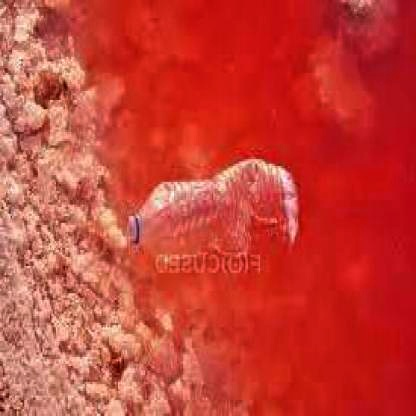pbottle: (115, 152, 307, 259)
